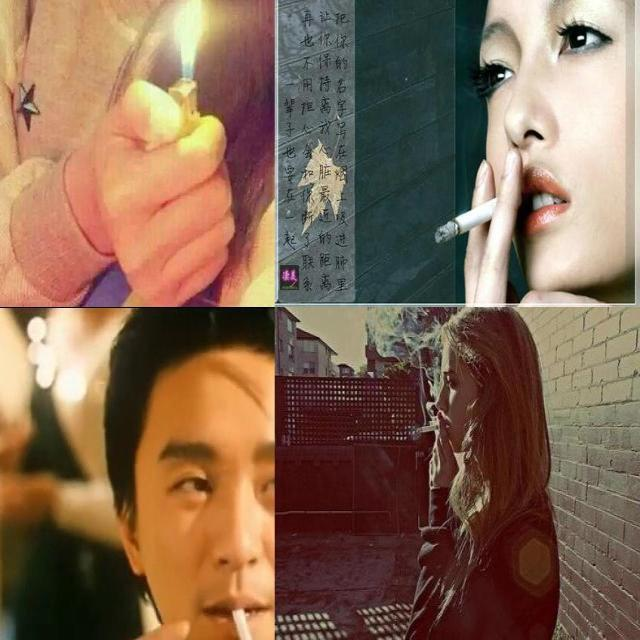smoking: (432, 188, 532, 246), (230, 608, 261, 639), (416, 422, 441, 436)
